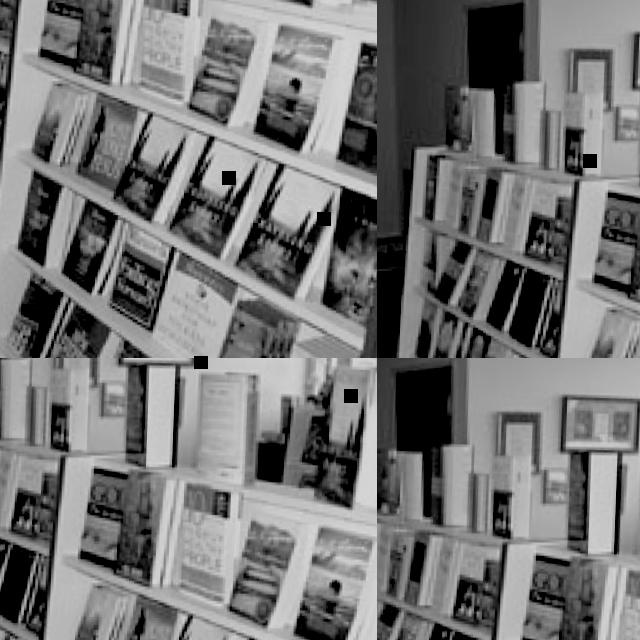machinery: (0, 0, 377, 358), (0, 374, 377, 640)
